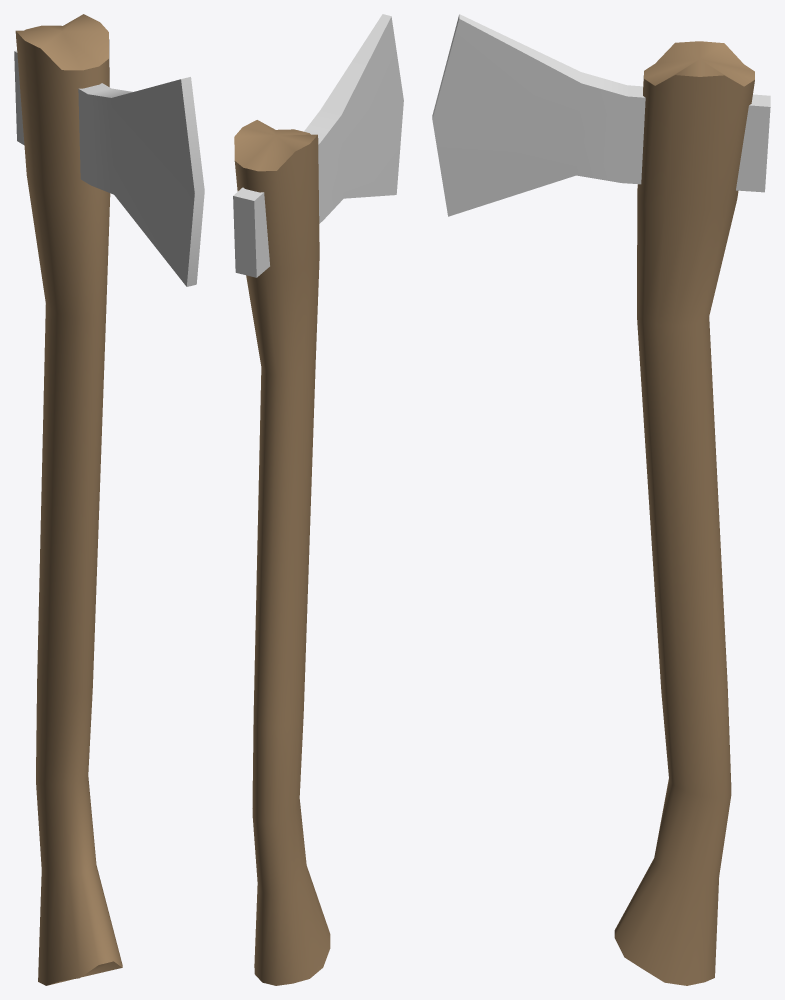
File: axecolor.fbx
The picture shows the model from 3 angles, left to right: view 1: azimuth 30°, elevation 25°; view 2: azimuth 150°, elevation 25°; view 3: azimuth 270°, elevation 25°; orthographic projection. The views are drawn at different scales.
Parts seen in each view (by area): view 1: pCylinder1, pCube1; view 2: pCylinder1, pCube1; view 3: pCylinder1, pCube1.
Boxes of the visible parts, x1=… form: pCylinder1: x1=15, y1=14, x2=122, y2=985; pCube1: x1=14, y1=50, x2=204, y2=286; pCylinder1: x1=234, y1=120, x2=330, y2=985; pCube1: x1=233, y1=14, x2=403, y2=277; pCylinder1: x1=614, y1=41, x2=754, y2=985; pCube1: x1=432, y1=14, x2=770, y2=216.
Bounding box in the file's own units: 1.27 × 15.83 × 5.06.
